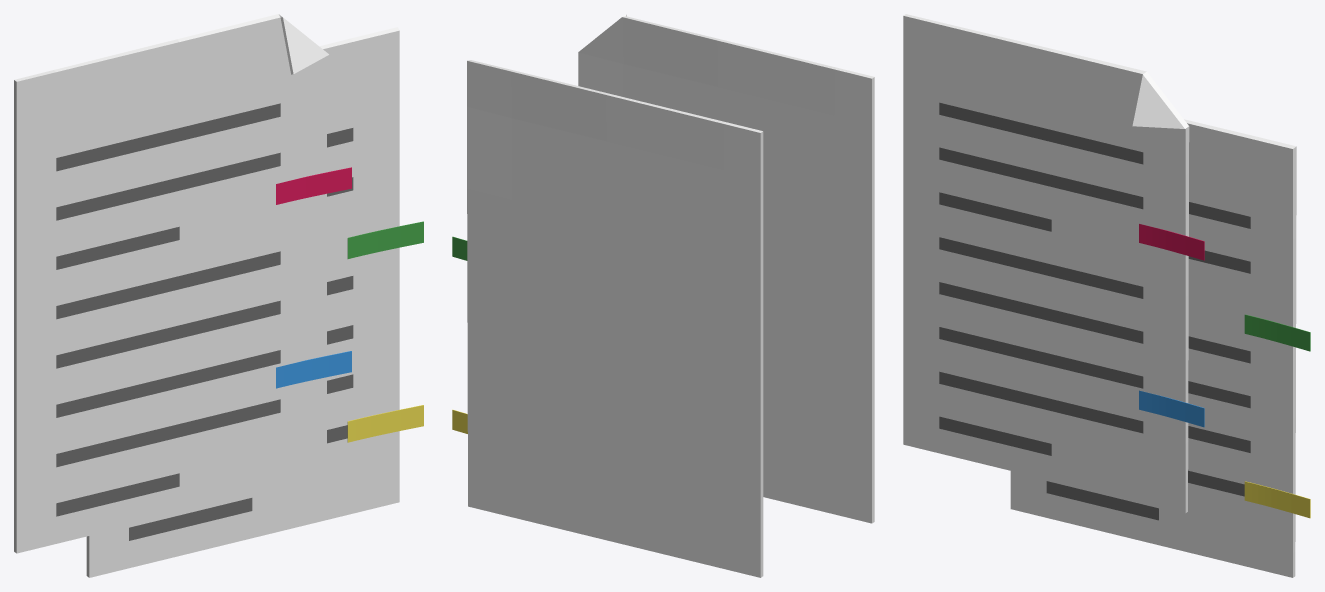
Rendered from bookmark_tabs.gltf.
The picture shows the model from 3 angles, left to right: view 1: azimuth 30°, elevation 25°; view 2: azimuth 150°, elevation 25°; view 3: azimuth 330°, elevation 25°; orthographic projection. The views are drawn at different scales.
Visible parts, largest first — view 1: Plane.324, Plane.325, Plane.328, Plane.329, Plane.327, Plane.326; view 2: Plane.325, Plane.324; view 3: Plane.324, Plane.325, Plane.329, Plane.328, Plane.327, Plane.326.
Part boxes in pixels (x1,y1,x2,y2): Plane.324: (14, 14, 328, 553); Plane.325: (86, 27, 399, 577); Plane.328: (347, 405, 423, 442); Plane.329: (347, 221, 423, 258); Plane.327: (276, 167, 351, 204); Plane.326: (276, 351, 351, 388); Plane.325: (467, 60, 763, 577); Plane.324: (578, 14, 874, 523); Plane.324: (903, 14, 1189, 513); Plane.325: (1010, 119, 1296, 577); Plane.329: (1244, 314, 1310, 351); Plane.328: (1244, 481, 1310, 518); Plane.327: (1139, 224, 1204, 260); Plane.326: (1139, 390, 1204, 427).
Size of the model in its own units: 1.73 by 2.07 by 0.2671.
1 material, 1 textured.
